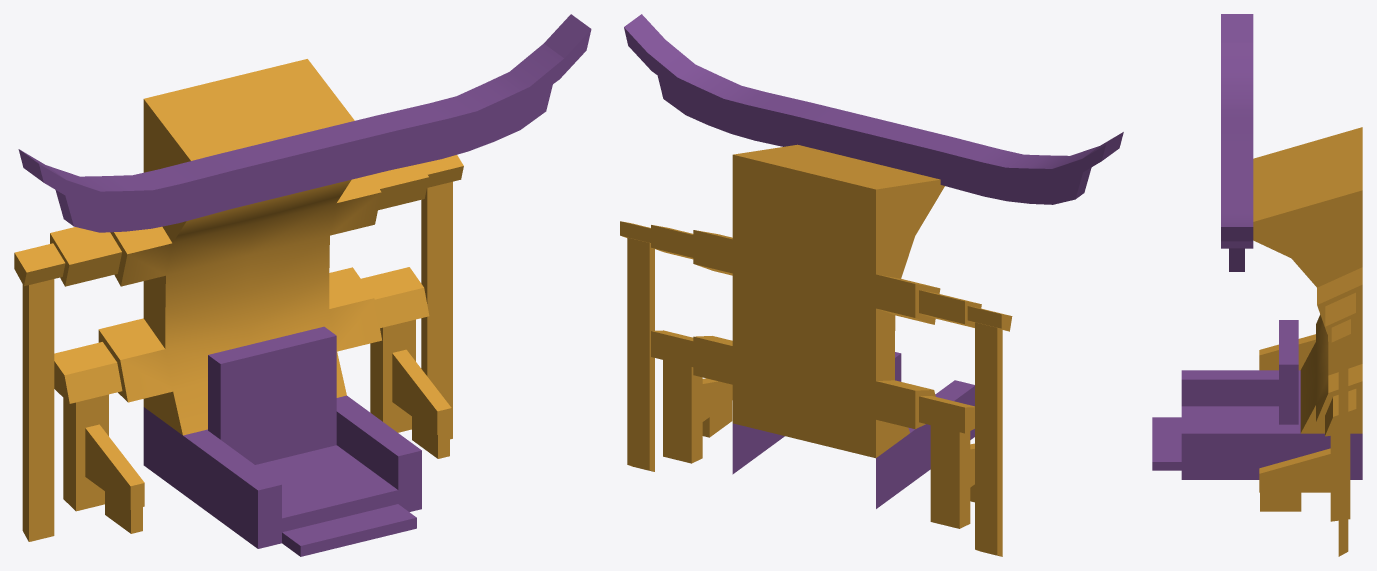
File: Throne.fbx
3 renders of one model, left to right at view 1: azimuth 30°, elevation 25°; view 2: azimuth 150°, elevation 25°; view 3: azimuth 270°, elevation 25°, orthographic. The views are drawn at different scales.
Parts seen in each view (by area): view 1: ThroneEmeblishments, ThroneCore, ThroneTopper; view 2: ThroneEmeblishments, ThroneTopper, ThroneCore; view 3: ThroneEmeblishments, ThroneCore, ThroneTopper.
Part boxes in pixels (x1=…): ThroneEmeblishments: x1=14, y1=59, x2=463, y2=541; ThroneCore: x1=143, y1=326, x2=421, y2=556; ThroneTopper: x1=18, y1=14, x2=591, y2=232; ThroneEmeblishments: x1=620, y1=144, x2=1012, y2=556; ThroneTopper: x1=624, y1=14, x2=1123, y2=204; ThroneCore: x1=732, y1=352, x2=974, y2=508; ThroneEmeblishments: x1=1253, y1=127, x2=1362, y2=556; ThroneCore: x1=1152, y1=320, x2=1362, y2=479; ThroneTopper: x1=1221, y1=14, x2=1253, y2=271.
Size of the model in its own units: 41.66 by 32.33 by 17.39.
